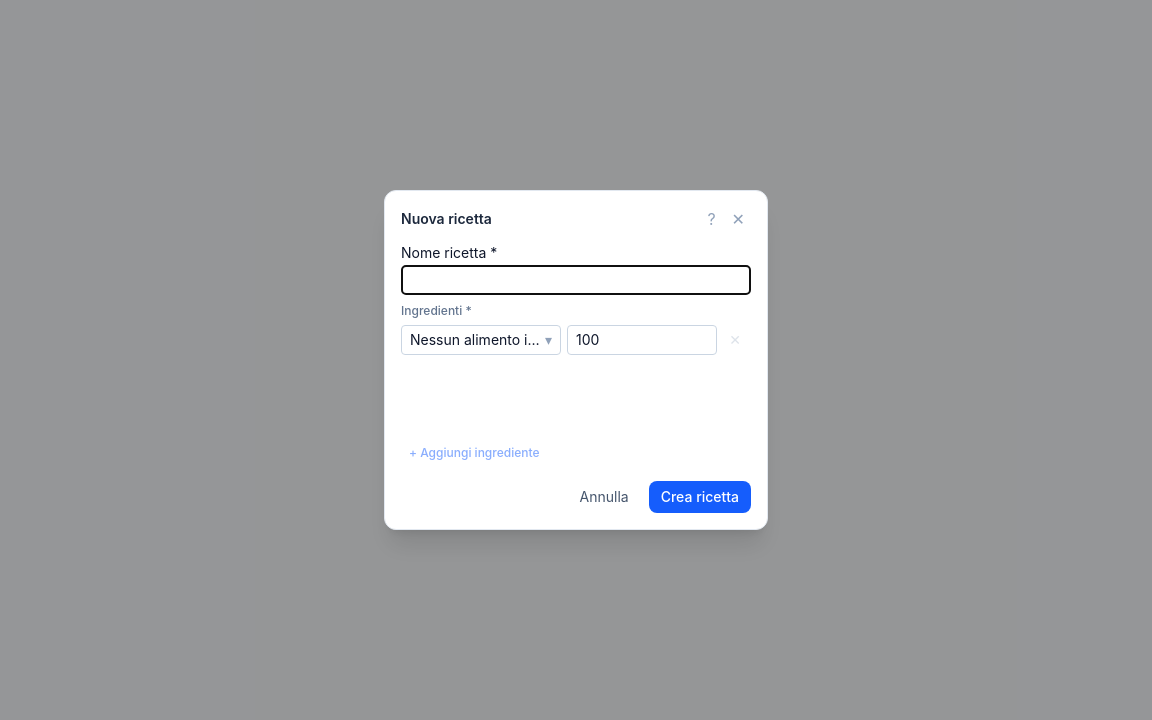
Test: RicettaFormModal - nuova ricetta › RicettaFormModal_nessunAlimentoSelezionabile_mostraErroreSenzaSalvare
Type "Insalata" into the field labelled "Nome ricetta *" at (576, 280), box [401,265,751,295]
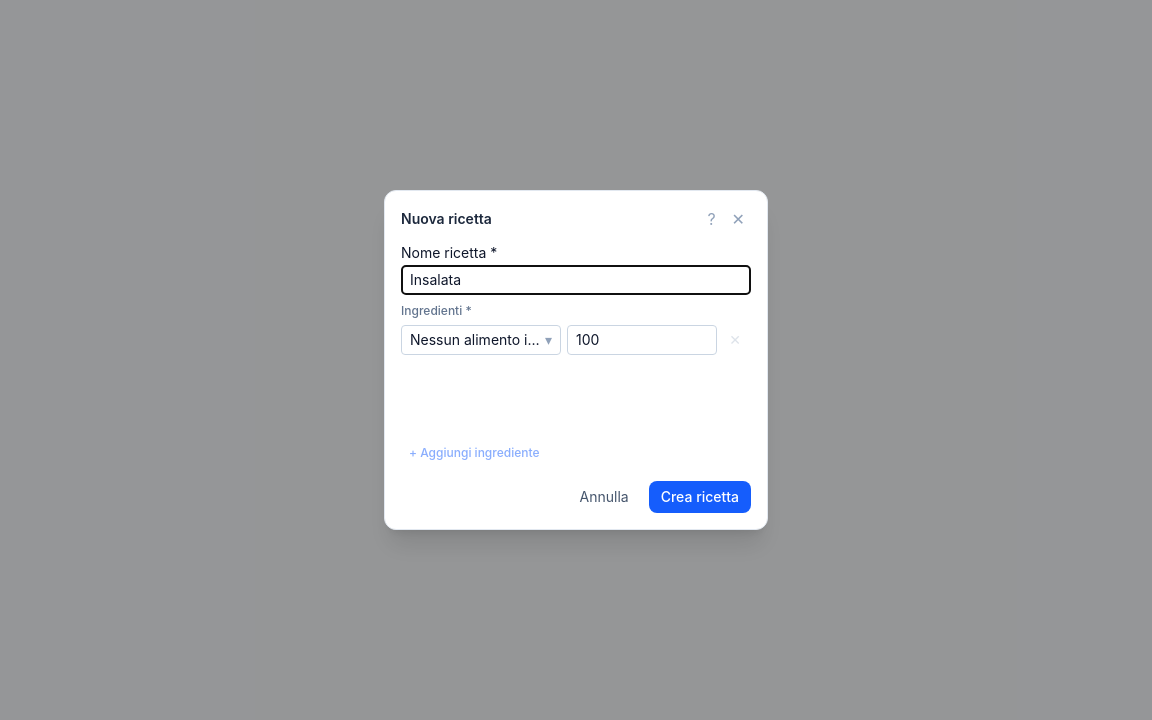
Click the button "Crea ricetta" at (700, 497), box [649,481,751,513]
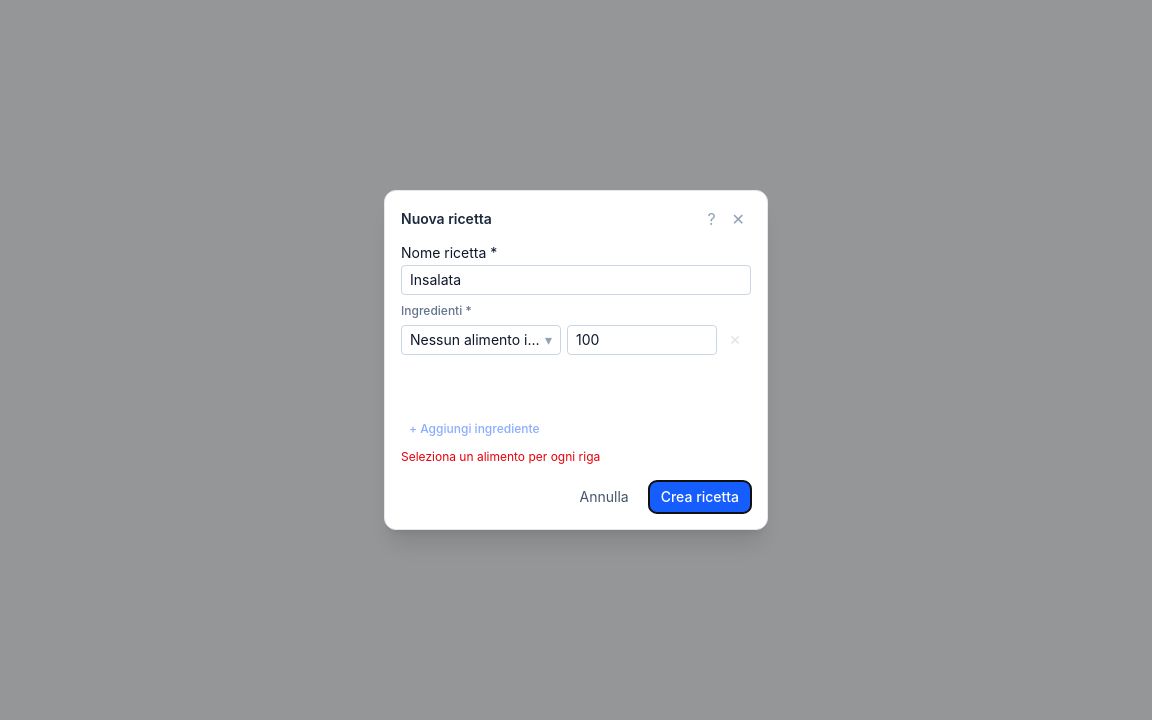
Expected: the text "Seleziona un alimento per ogni riga" is shown, [401,449,600,464]
